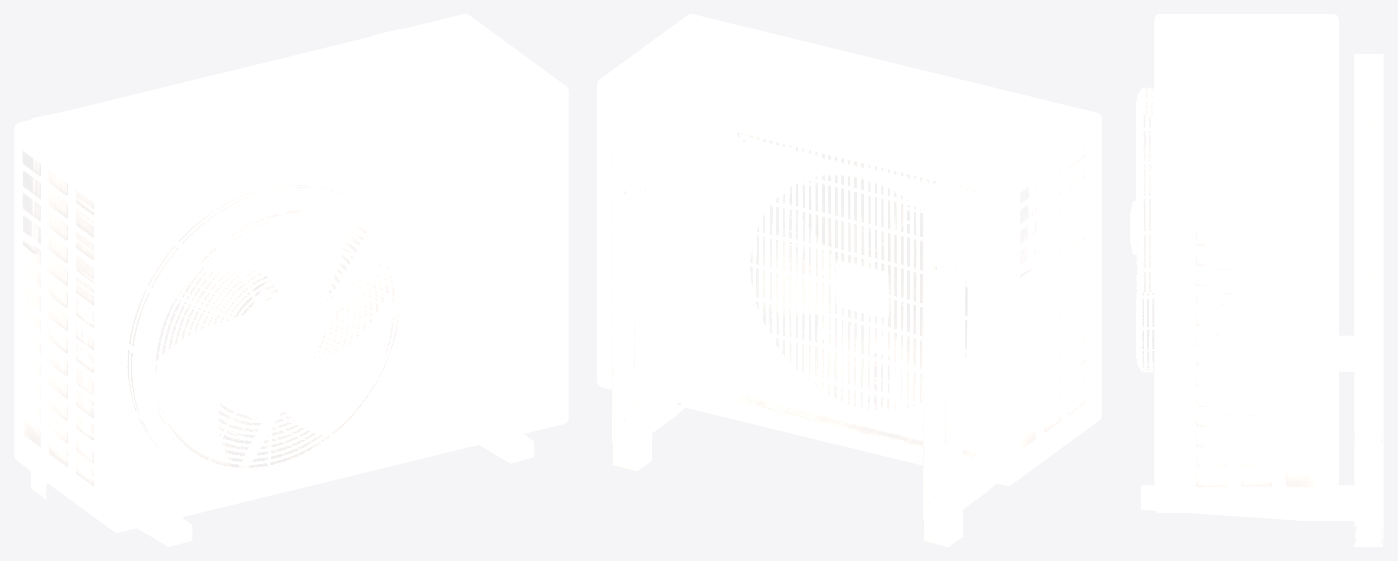
The model's file is AC_Sample_LOD0.fbx.
The picture shows the model from 3 angles, left to right: view 1: azimuth 30°, elevation 25°; view 2: azimuth 150°, elevation 25°; view 3: azimuth 270°, elevation 25°; orthographic projection. The views are drawn at different scales.
Parts seen in each view (by area): view 1: AC_Sample_LOD0; view 2: AC_Sample_LOD0; view 3: AC_Sample_LOD0.
Part boxes in pixels (x1,y1,x2,y2): AC_Sample_LOD0: (14, 14, 568, 546); AC_Sample_LOD0: (597, 14, 1101, 546); AC_Sample_LOD0: (1130, 14, 1383, 546).
Size of what is drawn, in the model's own units: 62.99 by 52.11 by 33.81.
Materials: 1 (1 with a texture image).
